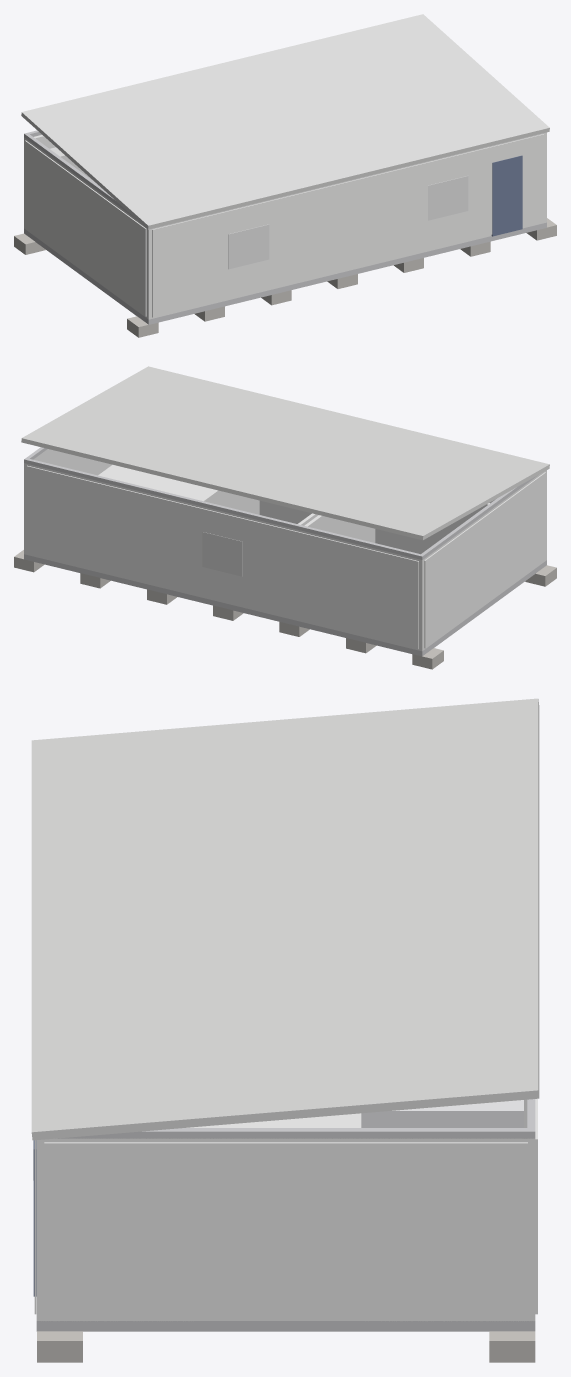
File: Studio-40-SlopingRoof-LOD3.glb
3 renders of one model, top to bottom at view 1: azimuth 30°, elevation 25°; view 2: azimuth 150°, elevation 25°; view 3: azimuth 270°, elevation 25°, orthographic. The views are drawn at different scales.
Visible parts, largest first — view 1: RoofSlopingUpgrade, ExteriorPanelsStandard, BaseFrame, WindowsStandard, FoundationBlocks, ExteriorShell, EntryDoor, TopFrame; view 2: ExteriorPanelsStandard, RoofSlopingUpgrade, ExteriorShell, TopFrame, BaseFrame, FoundationBlocks, MasterBedroomWalls, SecondaryBedroomWalls, LivingZoneExtended, WindowsStandard; view 3: RoofSlopingUpgrade, ExteriorPanelsStandard, ExteriorShell, BaseFrame, TopFrame, SecondaryBathroomBase, FoundationBlocks, LivingZoneExtended.
Part boxes in pixels (x1=…): RoofSlopingUpgrade: x1=21, y1=14, x2=549, y2=229; ExteriorPanelsStandard: x1=25, y1=134, x2=544, y2=317; BaseFrame: x1=24, y1=222, x2=546, y2=324; WindowsStandard: x1=228, y1=176, x2=468, y2=269; FoundationBlocks: x1=14, y1=218, x2=556, y2=337; ExteriorShell: x1=24, y1=132, x2=546, y2=319; EntryDoor: x1=491, y1=155, x2=522, y2=236; TopFrame: x1=24, y1=130, x2=135, y2=218; ExteriorPanelsStandard: x1=26, y1=465, x2=545, y2=649; RoofSlopingUpgrade: x1=21, y1=366, x2=549, y2=540; ExteriorShell: x1=24, y1=449, x2=546, y2=651; TopFrame: x1=24, y1=447, x2=537, y2=559; BaseFrame: x1=24, y1=554, x2=546, y2=656; FoundationBlocks: x1=14, y1=550, x2=556, y2=669; MasterBedroomWalls: x1=304, y1=503, x2=489, y2=554; SecondaryBedroomWalls: x1=200, y1=489, x2=318, y2=525; LivingZoneExtended: x1=98, y1=464, x2=214, y2=500; WindowsStandard: x1=202, y1=532, x2=242, y2=576; RoofSlopingUpgrade: x1=31, y1=698, x2=539, y2=1140; ExteriorPanelsStandard: x1=34, y1=1098, x2=537, y2=1318; ExteriorShell: x1=36, y1=1138, x2=535, y2=1321; BaseFrame: x1=36, y1=1321, x2=535, y2=1331; TopFrame: x1=57, y1=1099, x2=535, y2=1138; SecondaryBathroomBase: x1=361, y1=1100, x2=523, y2=1127; FoundationBlocks: x1=37, y1=1331, x2=535, y2=1362; LivingZoneExtended: x1=186, y1=1113, x2=361, y2=1127.
Size of the model in its own units: 12.49 by 3.76 by 6.56.
